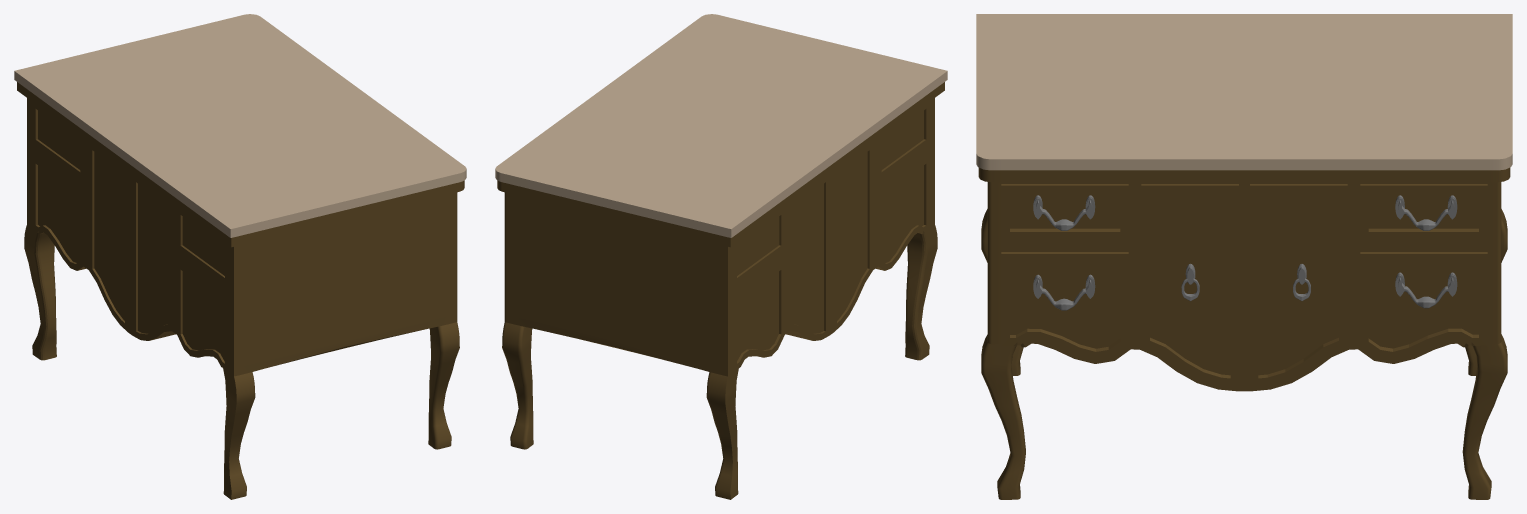
File: nightstand.fbx
The picture shows the model from 3 angles, left to right: view 1: azimuth 30°, elevation 25°; view 2: azimuth 150°, elevation 25°; view 3: azimuth 270°, elevation 25°; orthographic projection. The views are drawn at different scales.
Visible parts, largest first — view 1: knobs; view 2: knobs; view 3: knobs.
Part boxes in pixels (x1,y1,x2,y2): knobs: [14, 14, 466, 499]; knobs: [495, 14, 947, 499]; knobs: [976, 14, 1512, 499].
Bounding box in the file's own units: 69.73 × 76.9 × 108.
